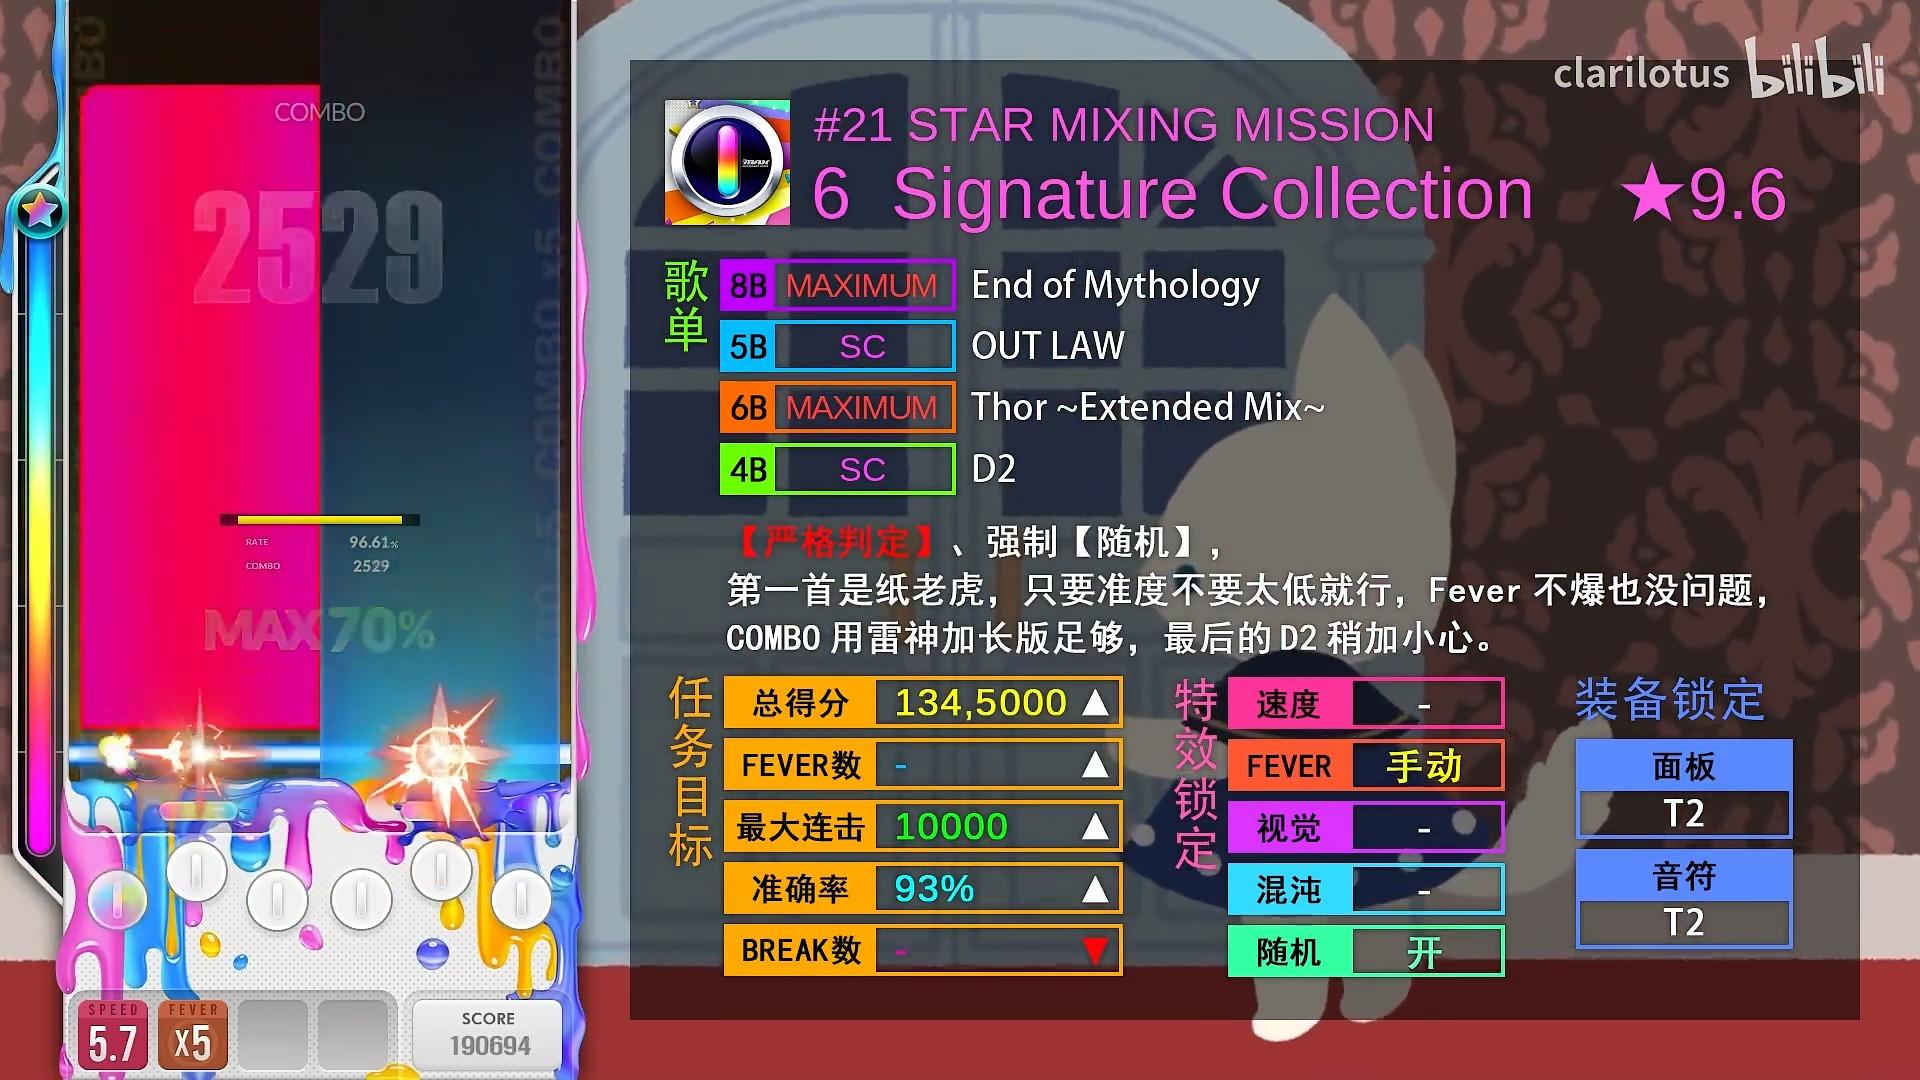xend: (79, 84, 320, 107)
xstart: (79, 704, 320, 731)
